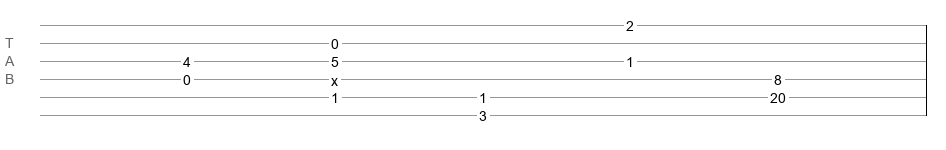0: (183, 72, 191, 82), (331, 36, 339, 46)
1: (331, 90, 339, 100), (479, 90, 487, 100), (626, 54, 634, 64)
2: (626, 18, 634, 28)
20: (770, 90, 786, 100)
3: (479, 108, 487, 118)
4: (183, 54, 191, 64)
5: (331, 54, 339, 64)
8: (774, 72, 782, 82)
x: (331, 73, 338, 81)
